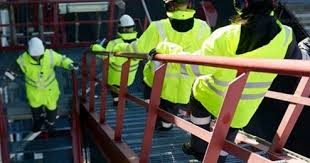helmet: (28, 39, 45, 55), (118, 14, 134, 26)
